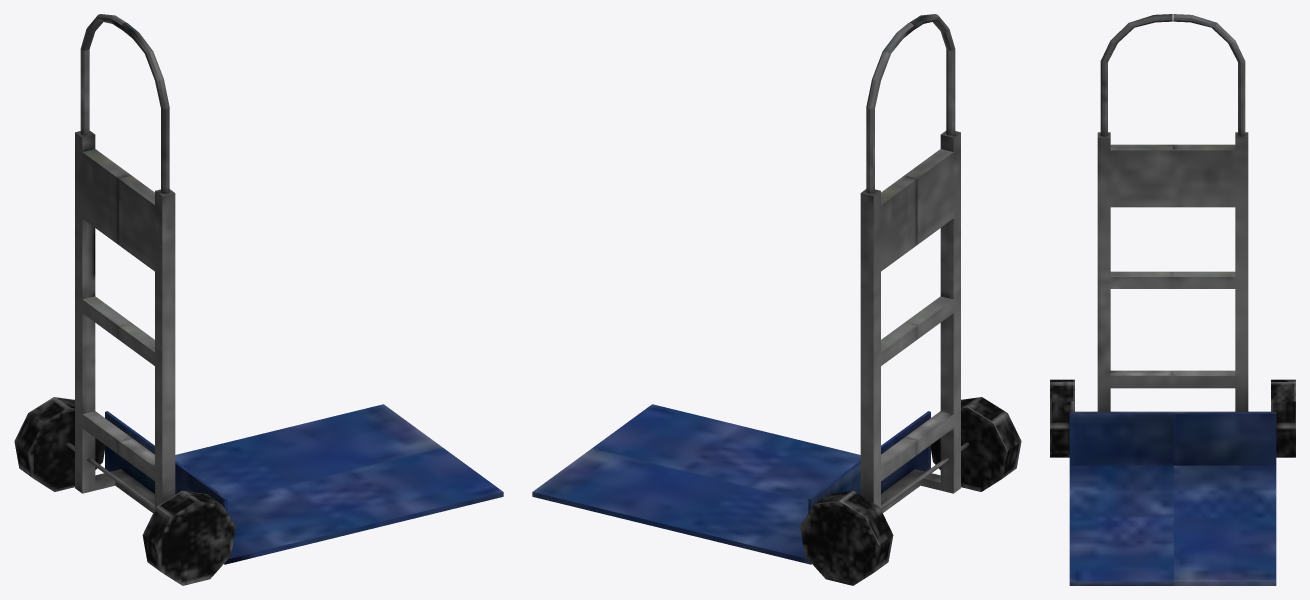
File: goods trolley.fbx
3 renders of one model, left to right at view 1: azimuth 30°, elevation 25°; view 2: azimuth 150°, elevation 25°; view 3: azimuth 270°, elevation 25°, orthographic. The views are drawn at different scales.
Parts seen in each view (by area): view 1: goods trolley; view 2: goods trolley; view 3: goods trolley.
Part boxes in pixels (x1=…): goods trolley: x1=14, y1=14, x2=503, y2=585; goods trolley: x1=532, y1=14, x2=1021, y2=585; goods trolley: x1=1050, y1=14, x2=1295, y2=585.
Size of the model in its own units: 227 by 308 by 157.
